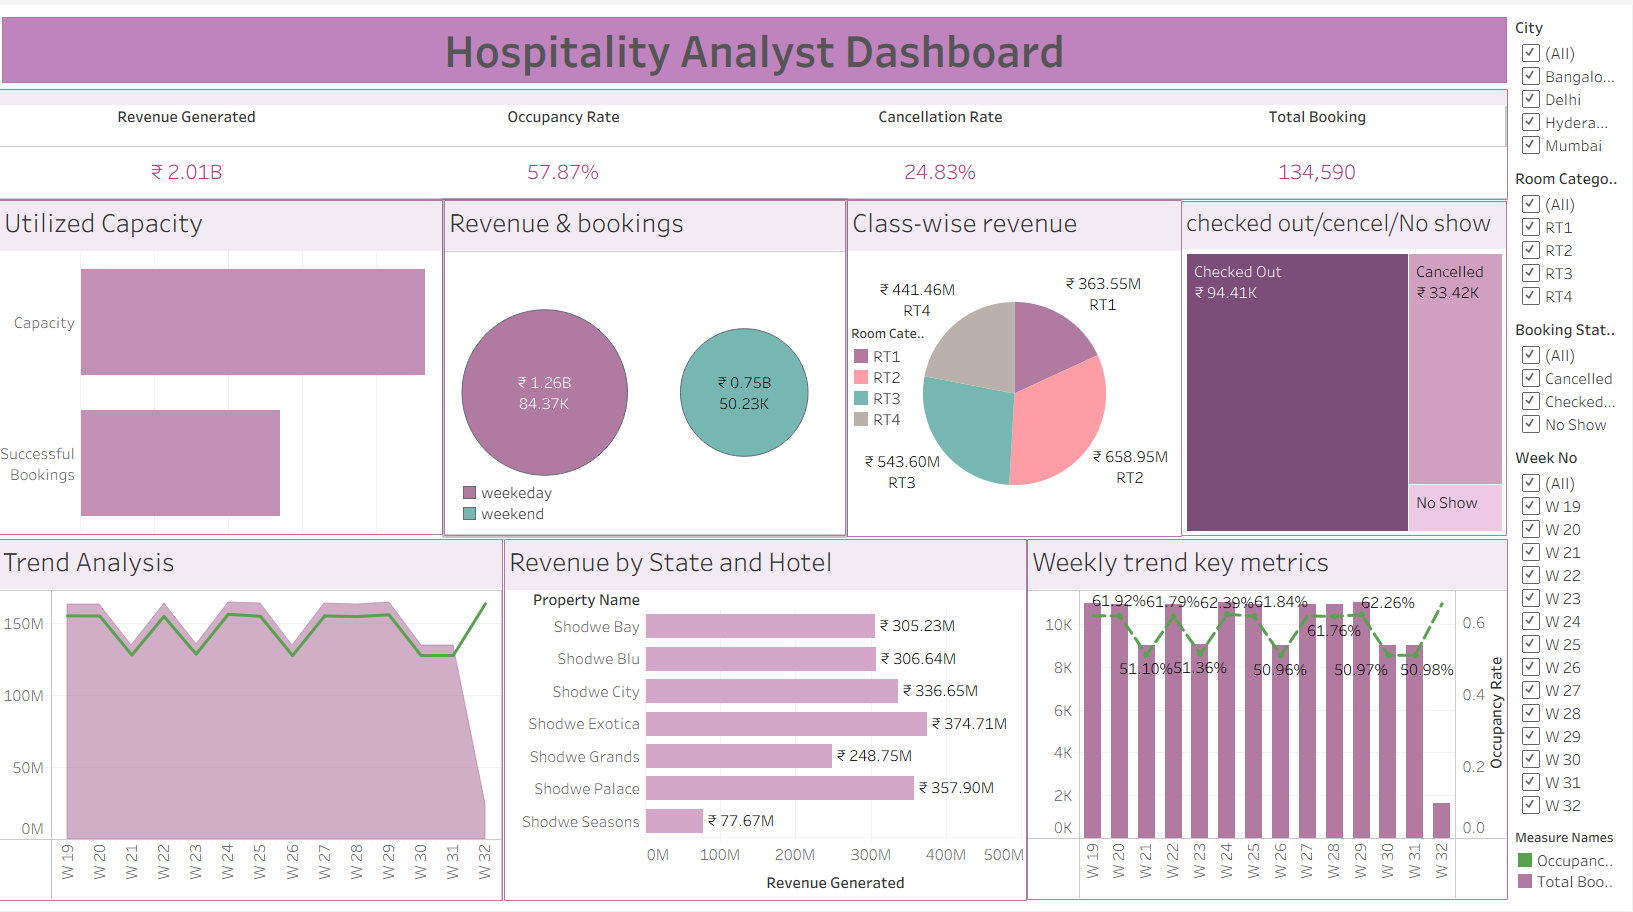

Layout of this report page (visuals, bound fields, positions):
{"tool":"tableau","page":{"name":"Dashboard 1","canvas":[1000,1000],"units":"permille","ordinal":0},"visuals":[{"type":"text","box":[4.9,8.8,922,81.8]},{"type":"filter","title":"Revenue by State and Hotel","param":"[federated.0isxcyk0ii92bp143nlhl18z355o].[none:city:nk]","box":[926.9,8.8,68.2,166.8]},{"type":"worksheet","title":"KPI","mark":"Automatic","box":[3.7,92.8,921.4,122.7]},{"type":"filter","title":"Class-wise revenue","param":"[federated.0isxcyk0ii92bp143nlhl18z355o].[none:room_category:nk]","box":[926.9,175.7,68.2,166.8]},{"type":"worksheet","title":"Utilized Capacity","mark":"Automatic","box":[5.5,215.5,270.6,370.2]},{"type":"worksheet","title":"Revenue & bookings","mark":"Pie","cols":["day_type"],"box":[276.7,215.5,245,371.3]},{"type":"worksheet","title":"Class-wise revenue","mark":"Pie","box":[522.2,215.5,204.1,372.4]},{"type":"worksheet","title":"checked out/cencel/No show","mark":"Automatic","box":[725.8,216.6,198.7,370.2]},{"type":"filter","title":"checked out/cencel/No show","param":"[federated.0isxcyk0ii92bp143nlhl18z355o].[none:booking_status:nk]","box":[926.9,342.5,68.2,141.4]},{"type":"legend","title":"Class-wise revenue","param":"[federated.0isxcyk0ii92bp143nlhl18z355o].[none:room_category:nk]","box":[524.7,352.5,46.9,122.7]},{"type":"filter","title":"Weekly trend key metrics","param":"[federated.0isxcyk0ii92bp143nlhl18z355o].[none:week no:nk]","box":[926.9,484,68.2,421]},{"type":"legend","title":"Revenue & bookings","param":"[federated.0isxcyk0ii92bp143nlhl18z355o].[none:day_type:nk]","box":[286.1,527.1,64.8,46.6]},{"type":"worksheet","title":"Weekly trend key metrics","mark":"Automatic","rows":["Calculation_673288190248730626","Calculation_673288190243160064"],"cols":["week no"],"box":[632.1,590,293.3,399.1]},{"type":"worksheet","title":"Trend Analysis","mark":"Automatic","rows":["revenue_generated","Calculation_673288190243160064"],"cols":["week no"],"box":[4.9,590.1,307.7,400]},{"type":"worksheet","title":"Revenue by State and Hotel","mark":"Automatic","rows":["property_name"],"cols":["revenue_generated"],"box":[313.2,590.1,318.7,400]},{"type":"legend","title":"Weekly trend key metrics","param":"[federated.0isxcyk0ii92bp143nlhl18z355o].[:Measure Names]","box":[926.9,905,68.2,79.6]}]}

Visuals, with their boxes on the dashboard's canvas, which has no fixed pixel size, in thousandths of its width and height (x1, y1, x2, y2). These are canvas units, not pixel positions in the 1633x912 screenshot, which may show the page scaled, cropped or inside an application window:
text: BBox(5, 9, 927, 91)
"Revenue by State and Hotel" filter: BBox(927, 9, 995, 176)
"KPI" worksheet: BBox(4, 93, 925, 216)
"Class-wise revenue" filter: BBox(927, 176, 995, 342)
"Utilized Capacity" worksheet: BBox(6, 216, 276, 586)
"Revenue & bookings" worksheet (Pie marks): BBox(277, 216, 522, 587)
"Class-wise revenue" worksheet (Pie marks): BBox(522, 216, 726, 588)
"checked out/cencel/No show" worksheet: BBox(726, 217, 924, 587)
"checked out/cencel/No show" filter: BBox(927, 342, 995, 484)
"Class-wise revenue" legend: BBox(525, 352, 572, 475)
"Weekly trend key metrics" filter: BBox(927, 484, 995, 905)
"Revenue & bookings" legend: BBox(286, 527, 351, 574)
"Weekly trend key metrics" worksheet: BBox(632, 590, 925, 989)
"Trend Analysis" worksheet: BBox(5, 590, 313, 990)
"Revenue by State and Hotel" worksheet: BBox(313, 590, 632, 990)
"Weekly trend key metrics" legend: BBox(927, 905, 995, 985)
